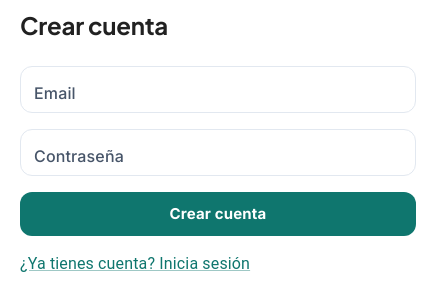
Test: SignupView › shows a format error and sends nothing when the email is malformed
In the field labelled "Email": x=218, y=89 x1=20 y1=66 x2=416 y2=113, type "not-an-email"
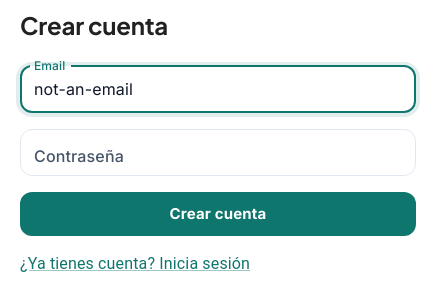
In the password field labelled "Contraseña": x=218, y=152 x1=20 y1=129 x2=416 y2=176, type "secret"
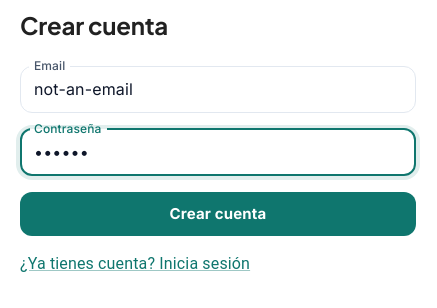
Click the button "Crear cuenta": x=218, y=214 x1=20 y1=192 x2=416 y2=236
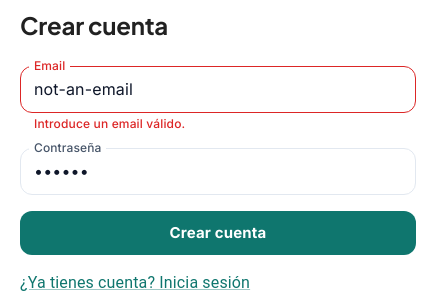
Now the text "Introduce un email válido." is shown, box x1=34 y1=116 x2=185 y2=131
